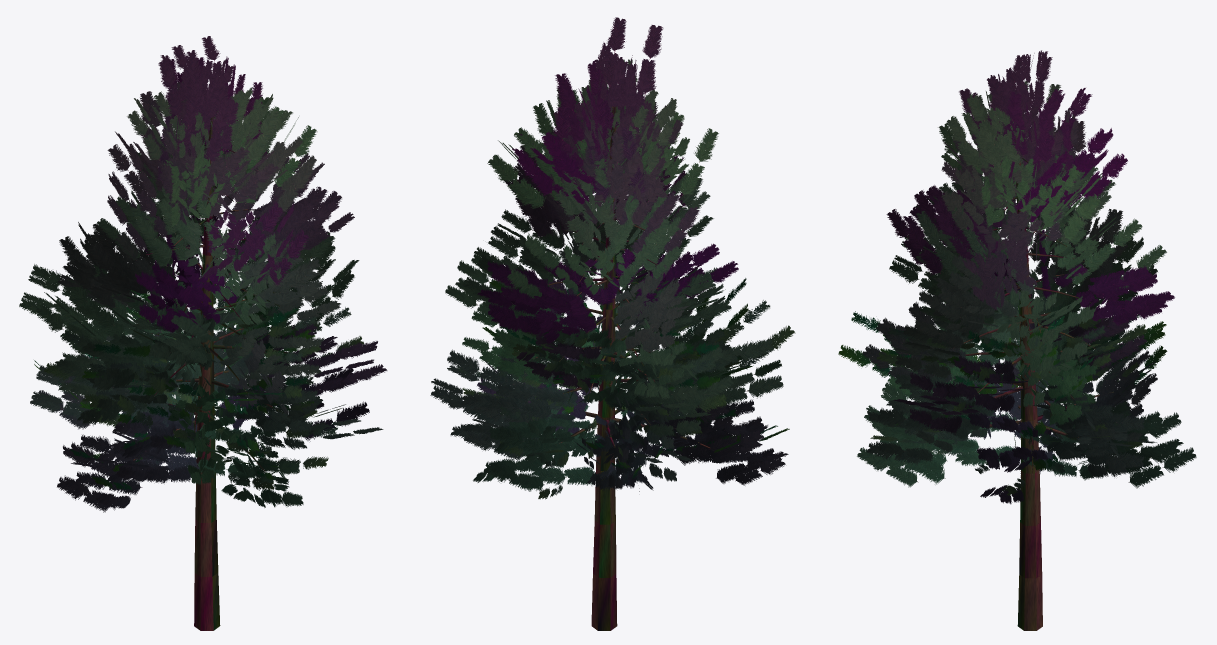
File: nat_pine_c_LOD1.glb
The picture shows the model from 3 angles, left to right: view 1: azimuth 30°, elevation 25°; view 2: azimuth 150°, elevation 25°; view 3: azimuth 270°, elevation 25°; orthographic projection. The views are drawn at different scales.
Visible parts, largest first — view 1: nat_pine_c_LOD1; view 2: nat_pine_c_LOD1; view 3: nat_pine_c_LOD1.
Boxes of the visible parts, box(x1,y1,x2,y2) form: nat_pine_c_LOD1: box(19, 36, 387, 630); nat_pine_c_LOD1: box(430, 17, 795, 630); nat_pine_c_LOD1: box(838, 50, 1196, 630).
Size of the model in its own units: 8.51 by 14.84 by 8.37.
2 materials, 2 textured.
